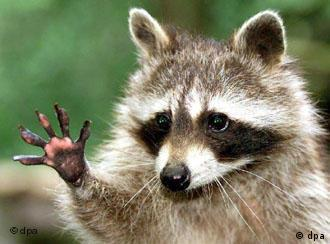raccoon: (11, 4, 329, 244)
